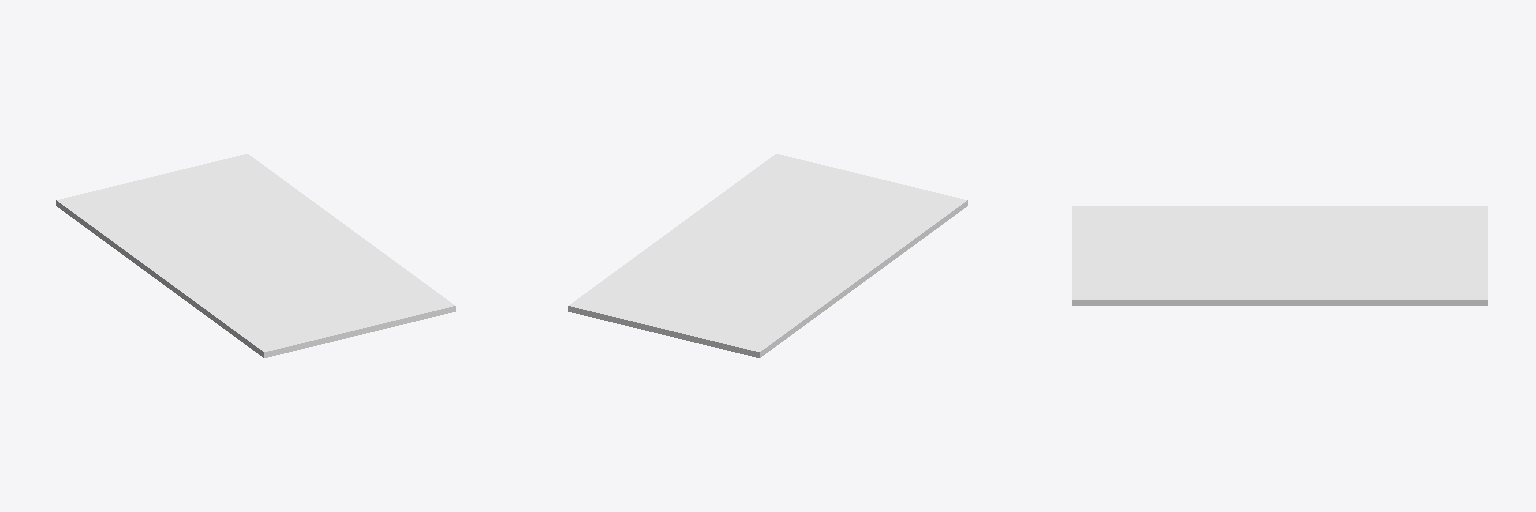
Rendered from plainroad_straight.obj.
3 renders of one model, left to right at view 1: azimuth 30°, elevation 25°; view 2: azimuth 150°, elevation 25°; view 3: azimuth 270°, elevation 25°, orthographic.
Parts seen in each view (by area): view 1: object 1; view 2: object 1; view 3: object 1.
Part boxes in pixels (x1,y1,x2,y2): object 1: (56, 154, 455, 357); object 1: (568, 154, 967, 357); object 1: (1072, 206, 1487, 305).
Size of the model in its own units: 3.4 by 0.1 by 6.4.